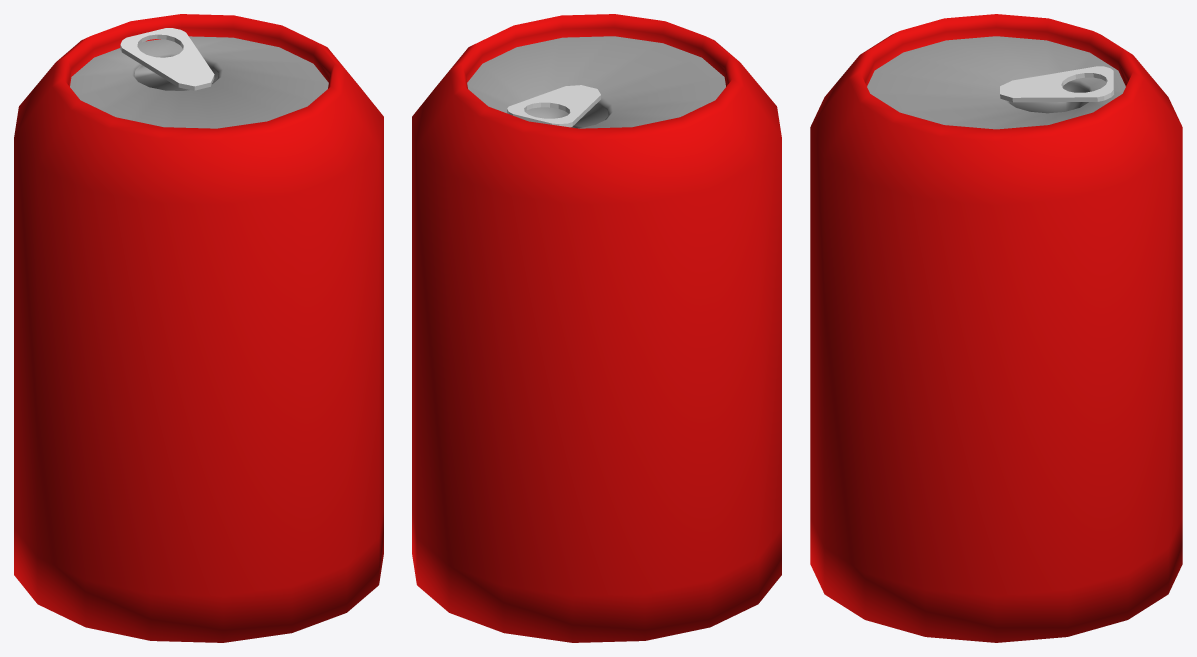
The model's file is small_can.fbx.
The picture shows the model from 3 angles, left to right: view 1: azimuth 30°, elevation 25°; view 2: azimuth 150°, elevation 25°; view 3: azimuth 270°, elevation 25°; orthographic projection.
Visible parts, largest first — view 1: Cylinder.007, Cylinder.002, Plane.001; view 2: Cylinder.007, Cylinder.002, Plane.001; view 3: Cylinder.007, Cylinder.002, Plane.001.
Part boxes in pixels (x1=…): Cylinder.007: x1=14, y1=14, x2=383, y2=642; Cylinder.002: x1=70, y1=36, x2=328, y2=128; Plane.001: x1=120, y1=28, x2=214, y2=90; Cylinder.007: x1=412, y1=14, x2=781, y2=642; Cylinder.002: x1=467, y1=36, x2=725, y2=128; Plane.001: x1=507, y1=85, x2=600, y2=127; Cylinder.007: x1=810, y1=14, x2=1182, y2=642; Cylinder.002: x1=867, y1=36, x2=1125, y2=129; Plane.001: x1=1000, y1=66, x2=1114, y2=102.
Size of the model in its own units: 66.41 by 96.98 by 66.41.
